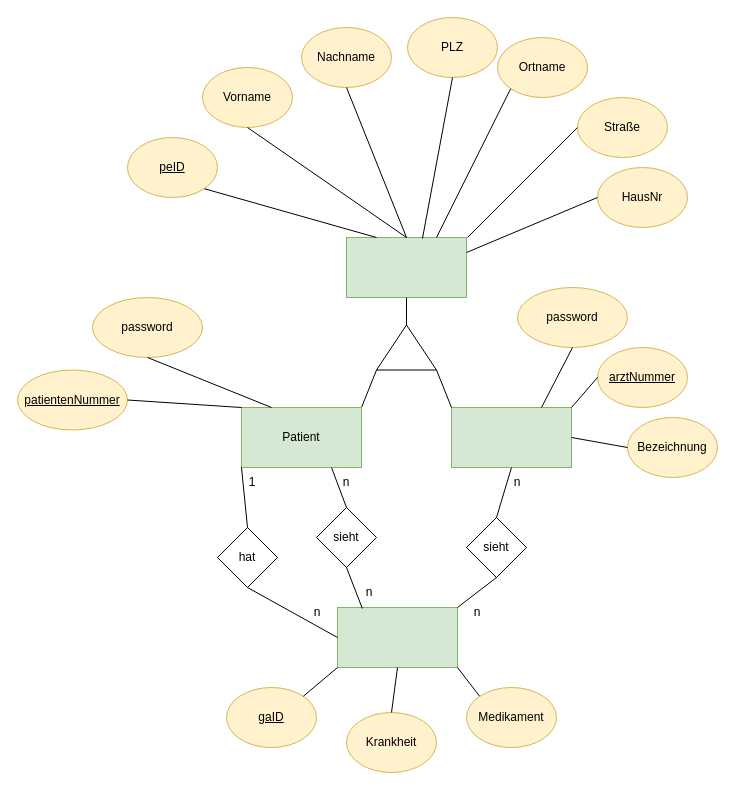
Some shapes in this 735 by 790 pixel diagram are drawn without their labels. Each missing label, with the centre of its shape:
Arzt: [511,437]
Befund: [397,637]
is a: [406,347]
Person: [406,267]
